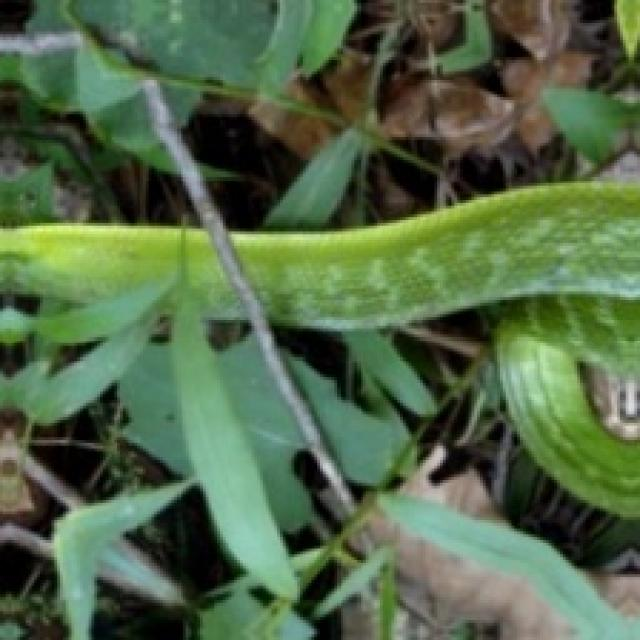red-tailed green ratsnake: (234, 185, 640, 517), (0, 230, 238, 341)
